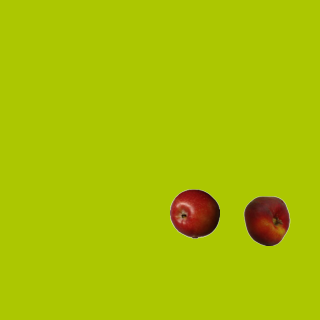Apple Braeburn: (169, 188, 219, 238)
Nectarine Flat: (241, 195, 291, 245)
